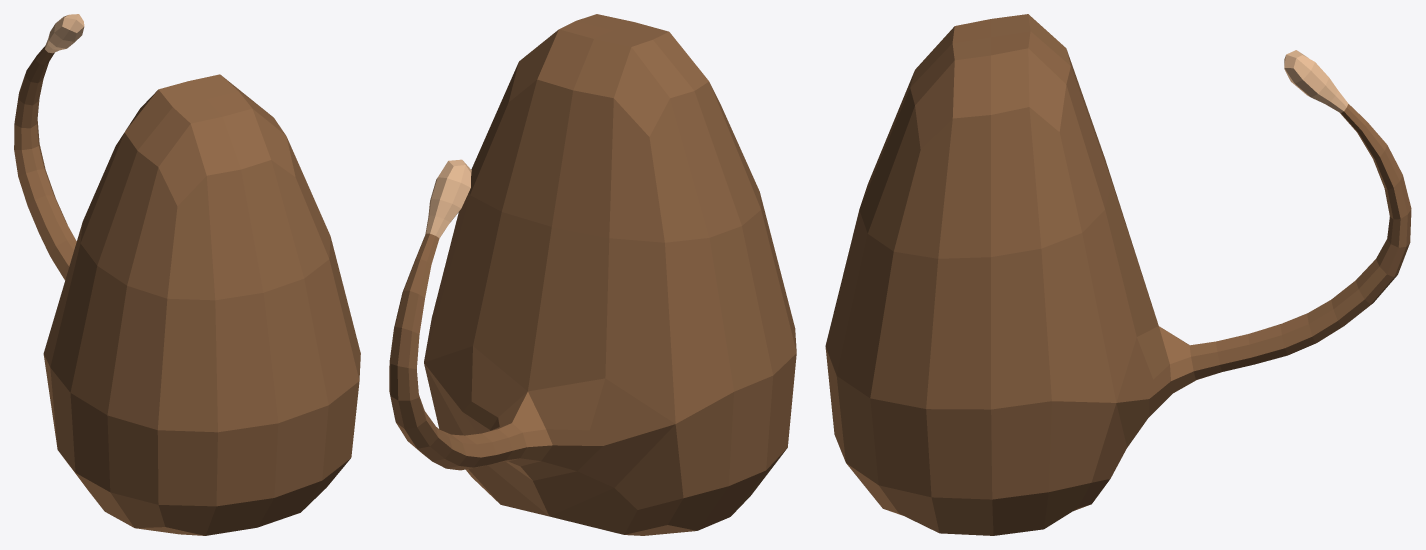
The model's file is Anoa_Badan.fbx.
The picture shows the model from 3 angles, left to right: view 1: azimuth 30°, elevation 25°; view 2: azimuth 150°, elevation 25°; view 3: azimuth 270°, elevation 25°; orthographic projection. The views are drawn at different scales.
Visible parts, largest first — view 1: Badan.001; view 2: Badan.001; view 3: Badan.001.
Part boxes in pixels (x1,y1,x2,y2): Badan.001: (14, 14, 360, 535); Badan.001: (389, 14, 796, 535); Badan.001: (825, 14, 1411, 535).
Bounding box in the file's own units: 118 × 171 × 194.
